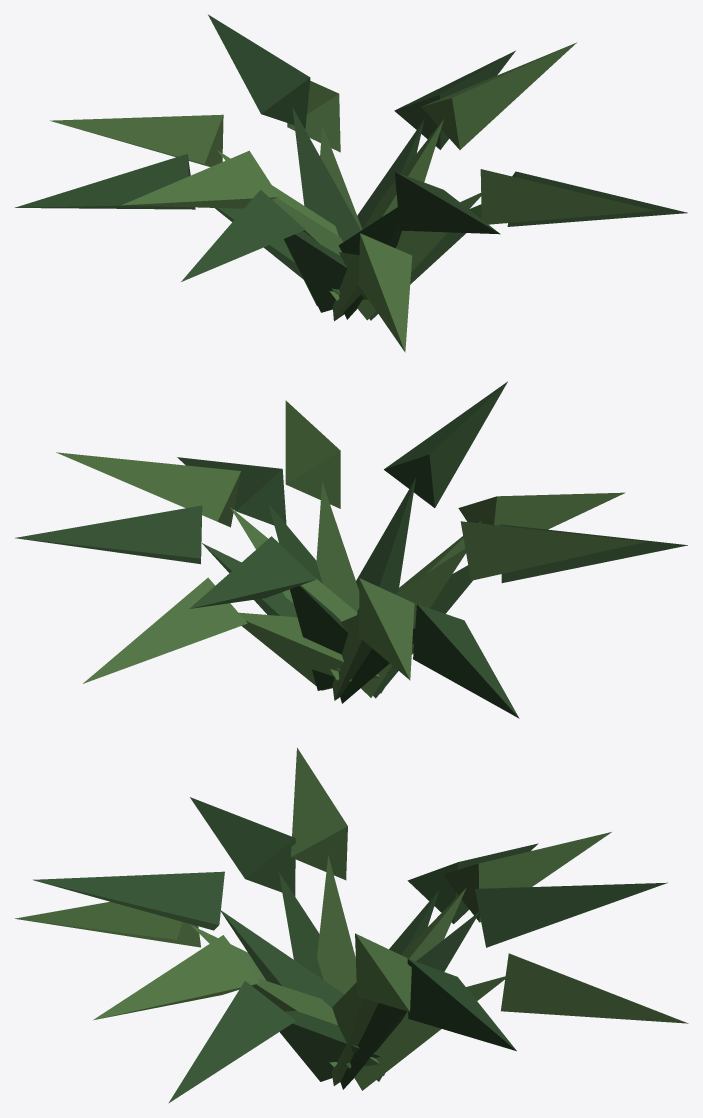
File: fern.glb
The picture shows the model from 3 angles, top to bottom: view 1: azimuth 30°, elevation 25°; view 2: azimuth 150°, elevation 25°; view 3: azimuth 270°, elevation 25°; orthographic projection. The views are drawn at different scales.
Visible parts, largest first — view 1: fern; view 2: fern; view 3: fern.
Boxes of the visible parts, bbox=[...] form: fern: bbox=[14, 14, 687, 352]; fern: bbox=[15, 381, 687, 718]; fern: bbox=[15, 747, 688, 1103].
Size of the model in its own units: 0.9876 by 0.347 by 1.06.
Materials: 1 (1 with a texture image).
